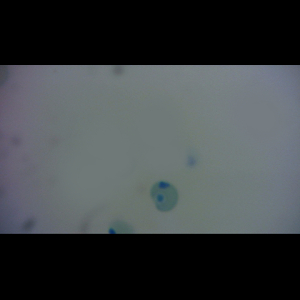erythrocyte: (149, 180, 180, 214)
